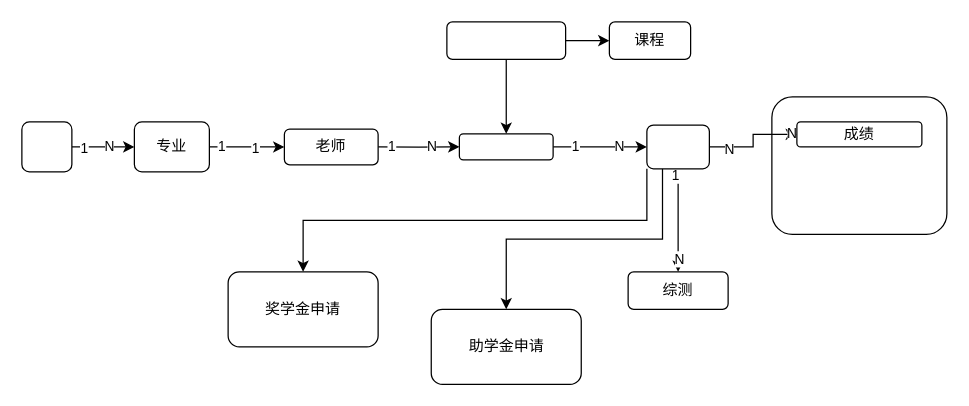
This 969x406 diagram has some shape labels left out. Here are the shapes that lost their labels. From the top down, the centre of each, then its label:
At (506,40): "年级".
At (46,146): "学院".
At (505,146): "班级".
At (677,146): "学生".
